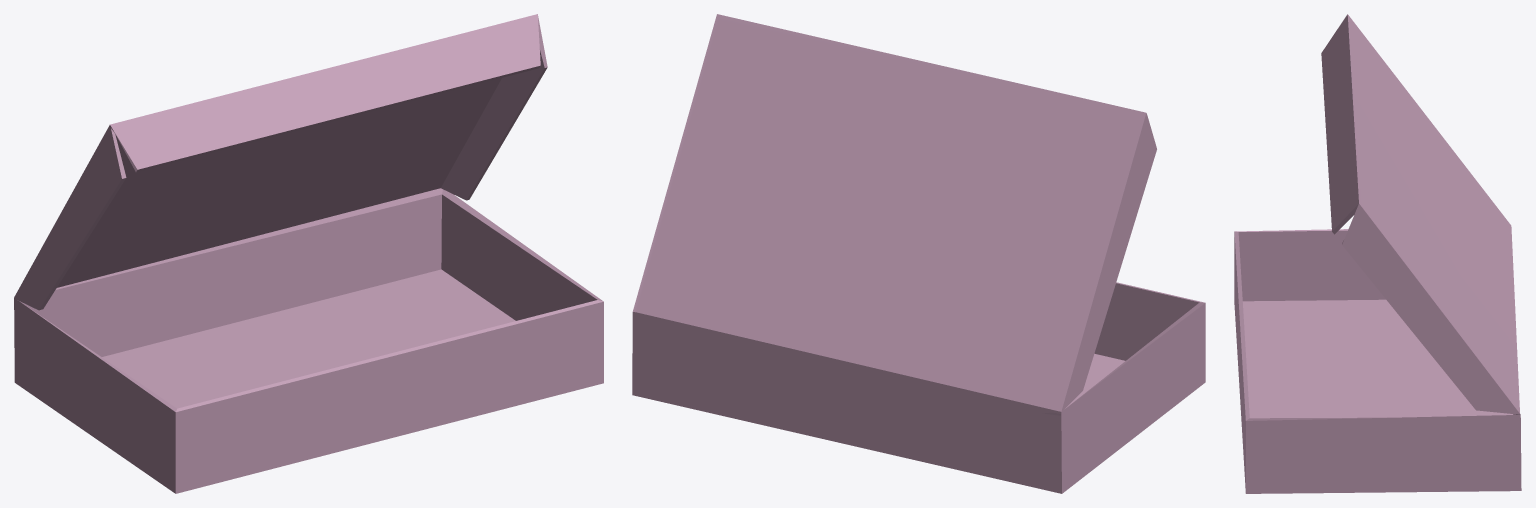
The model's file is donut_box1_LP.fbx.
3 renders of one model, left to right at view 1: azimuth 30°, elevation 25°; view 2: azimuth 150°, elevation 25°; view 3: azimuth 270°, elevation 25°, orthographic. The views are drawn at different scales.
Parts seen in each view (by area): view 1: polySurface74; view 2: polySurface74; view 3: polySurface74.
Boxes of the visible parts, x1,y1,x2,y2 form: polySurface74: [14, 14, 603, 493]; polySurface74: [632, 14, 1205, 493]; polySurface74: [1234, 14, 1521, 493].
Size of the model in its own units: 4.78 by 3.35 by 3.01.
